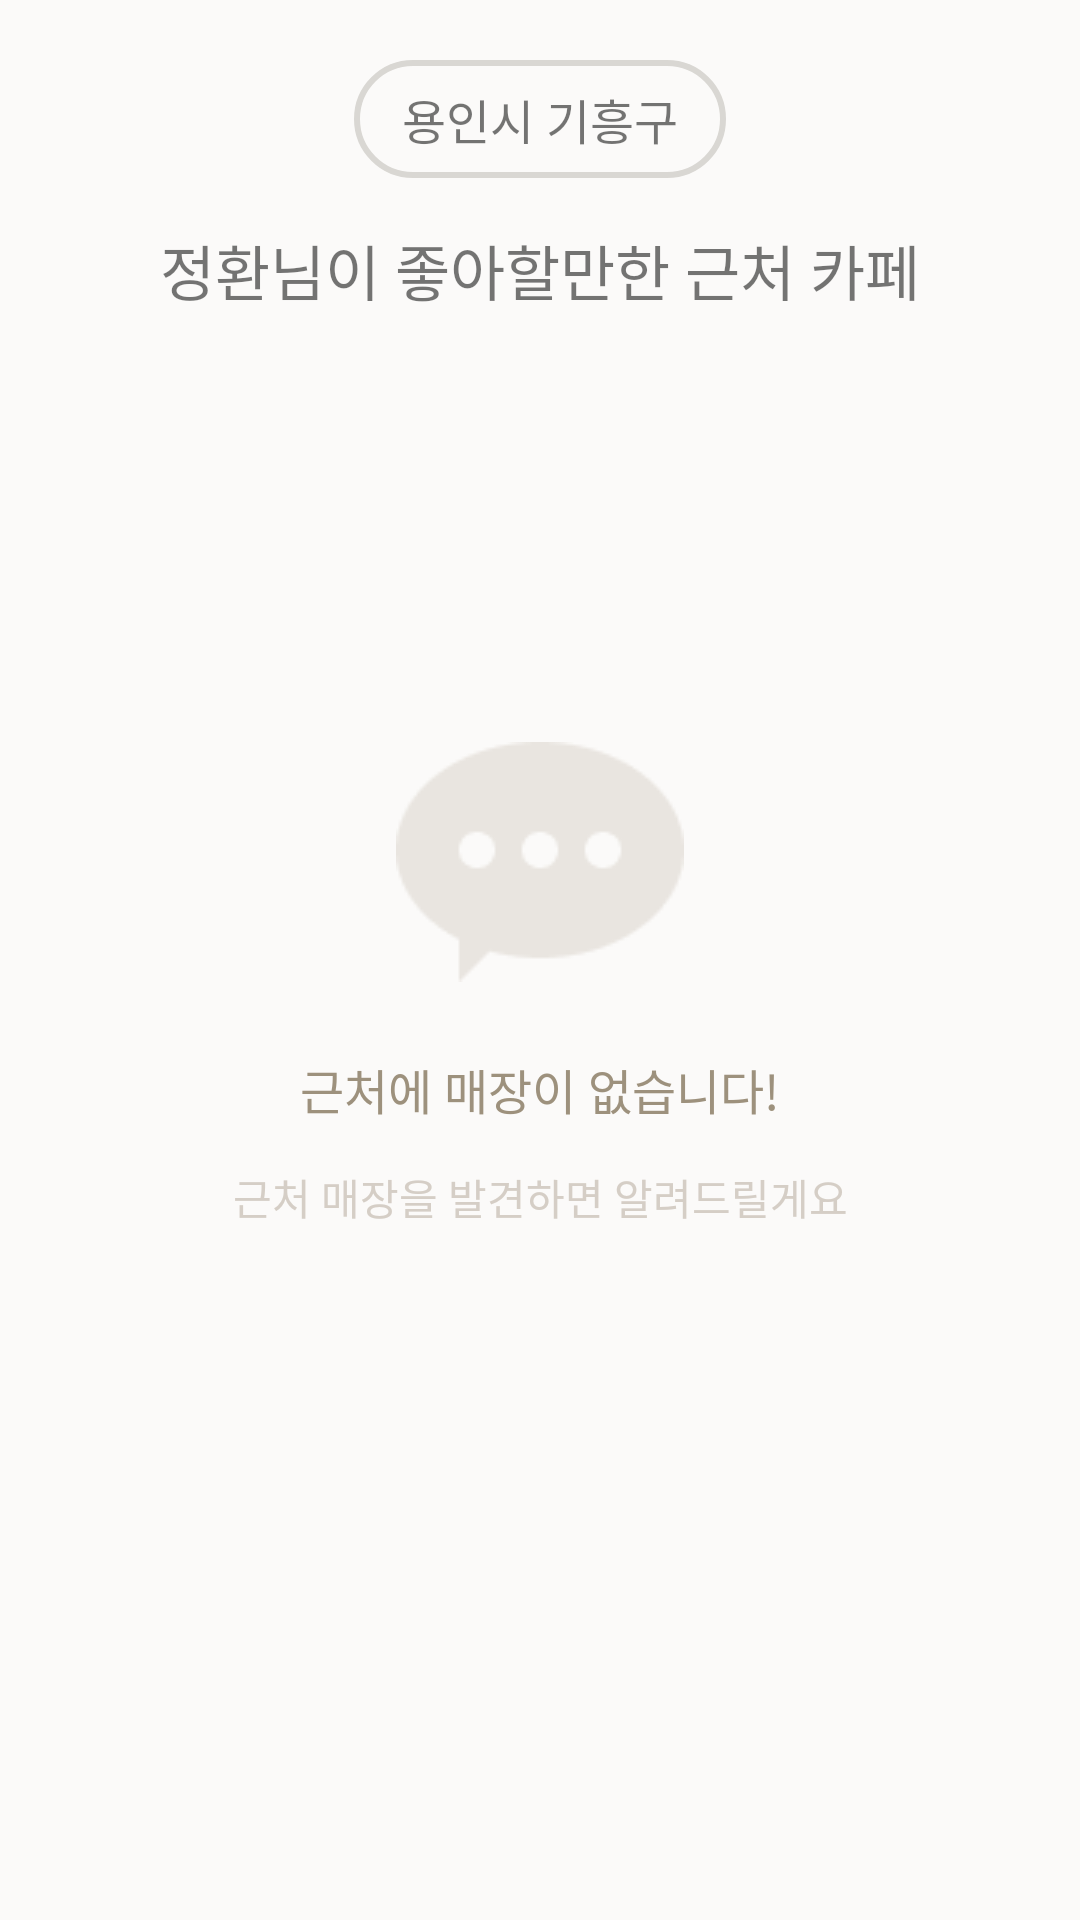

Icons on this 1080*1920 Android screen, each with the point to tap as (x,y):
notice: (540,860)
